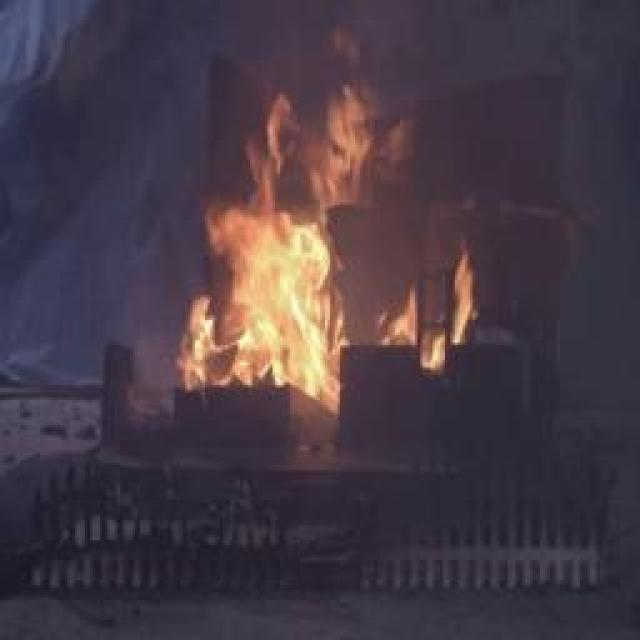fire: (159, 86, 469, 409)
